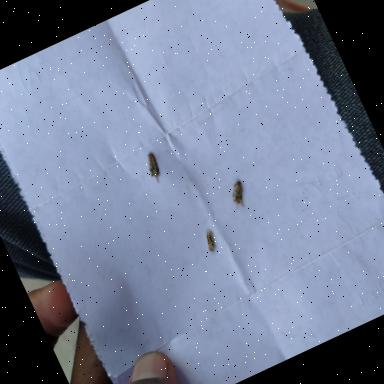pbw: (142, 150, 170, 185), (225, 180, 250, 210), (200, 228, 220, 252)
